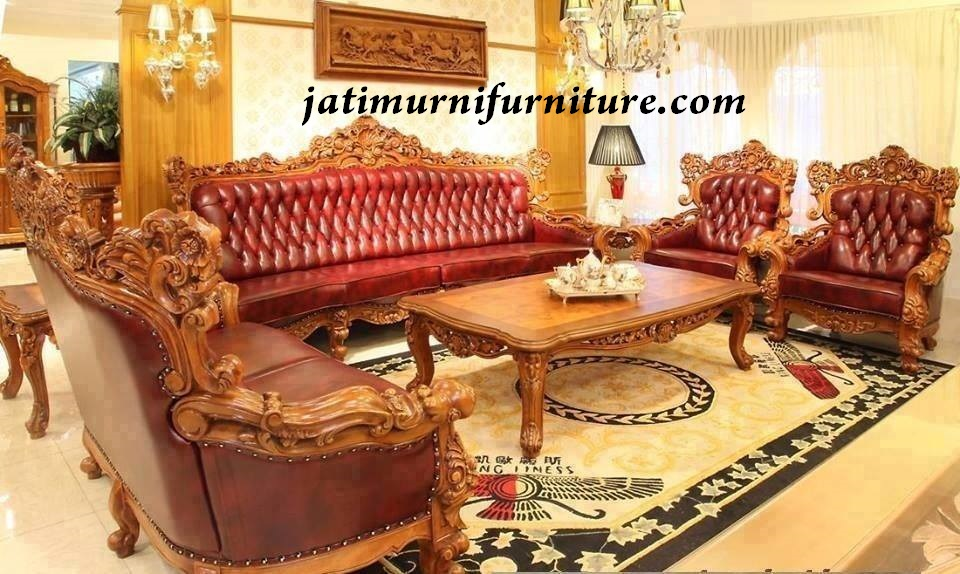Carving Chair: (18, 173, 437, 574), (162, 124, 582, 290), (803, 151, 960, 373)
Carving Table: (407, 249, 747, 449)
